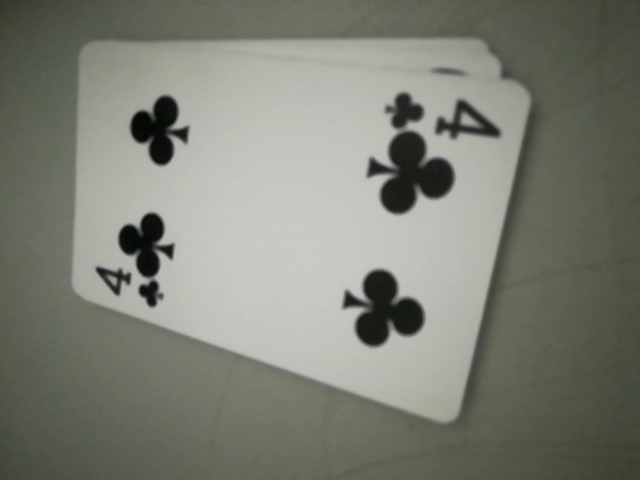mh 4: (384, 82, 506, 141), (88, 262, 169, 315)
